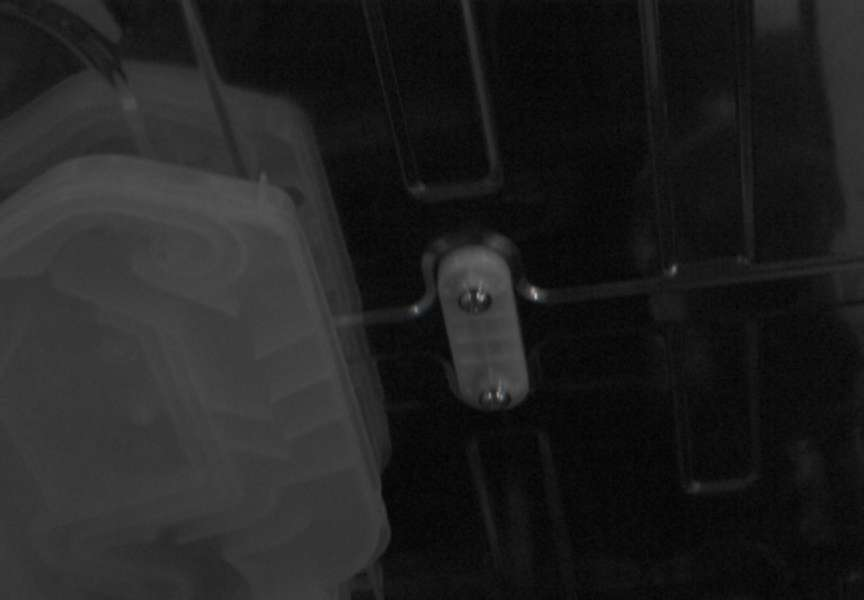screw: (458, 287, 492, 314), (478, 386, 512, 411)
